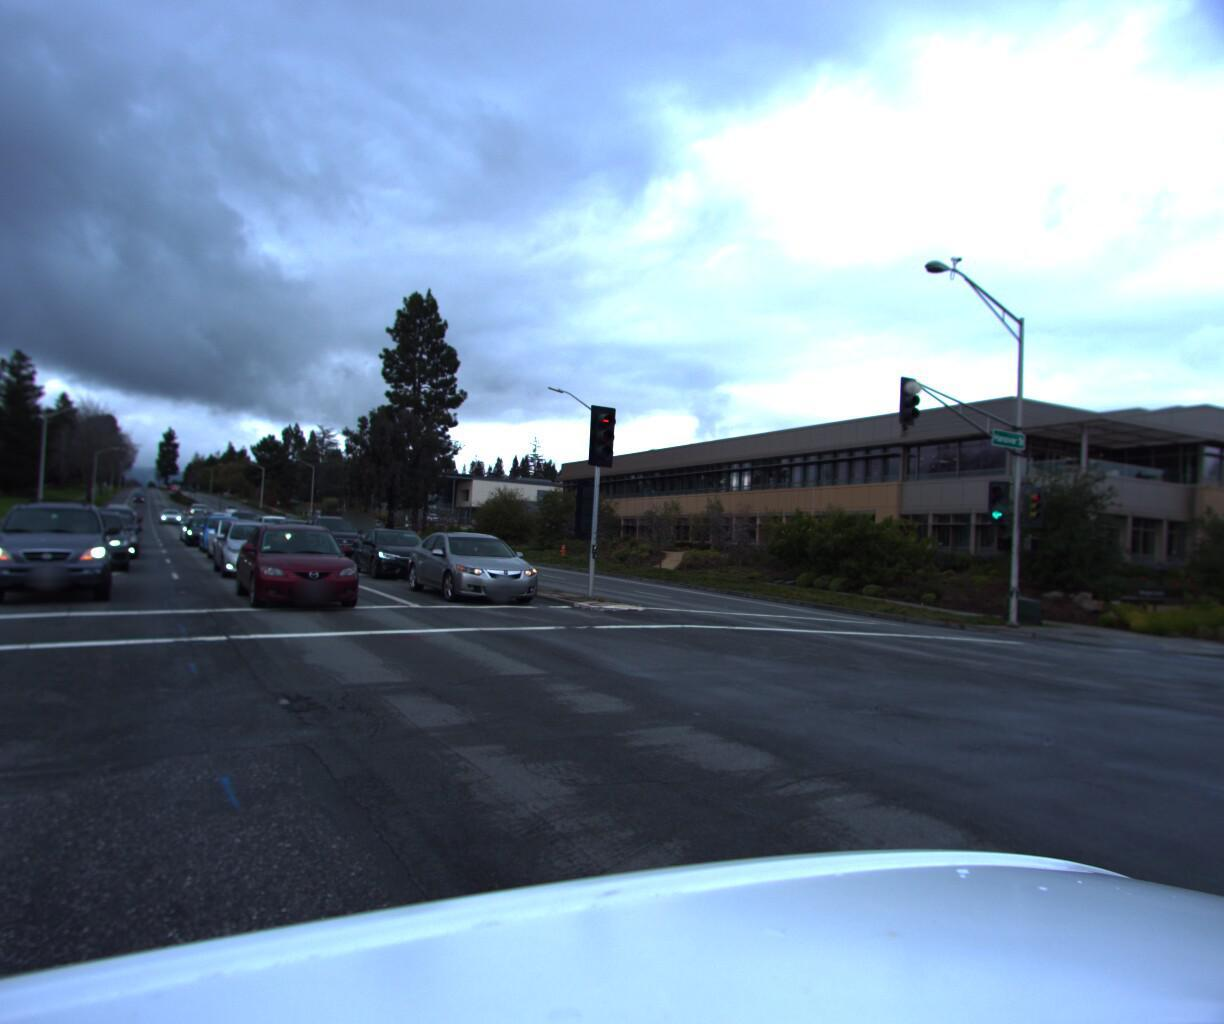car: (222, 521, 374, 623), (392, 532, 555, 618), (32, 507, 135, 579), (207, 519, 314, 588), (338, 530, 452, 588), (297, 515, 380, 573), (201, 518, 284, 574), (60, 517, 144, 567), (194, 515, 257, 560), (184, 522, 238, 556), (253, 520, 305, 554), (182, 517, 231, 549), (163, 515, 187, 534)
